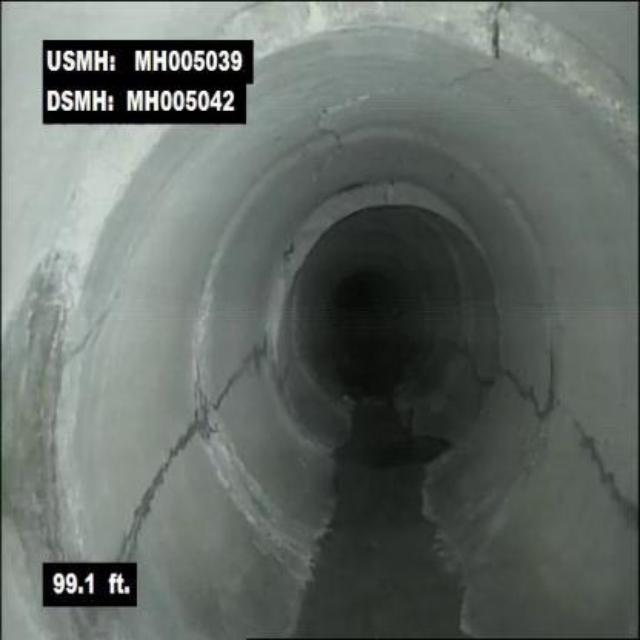Crack: (122, 420, 208, 560), (582, 431, 635, 531), (503, 352, 565, 429)
Joint offset: (18, 129, 152, 426), (257, 5, 505, 68), (511, 5, 634, 129)
